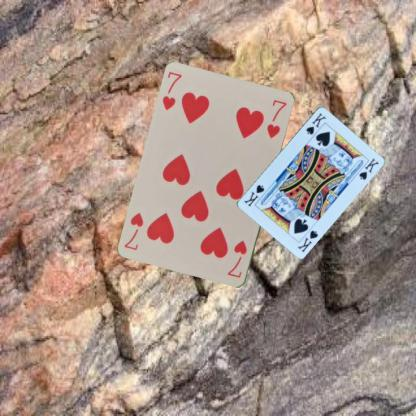7h: (160, 69, 184, 112), (225, 237, 248, 280)
Ks: (303, 109, 327, 136), (295, 228, 319, 253)
